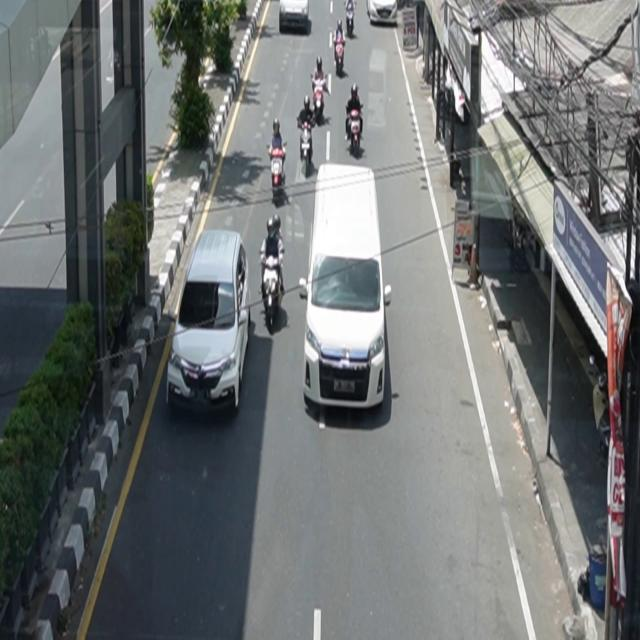car: (167, 229, 252, 418), (280, 1, 310, 34)
truck: (300, 163, 393, 415)
